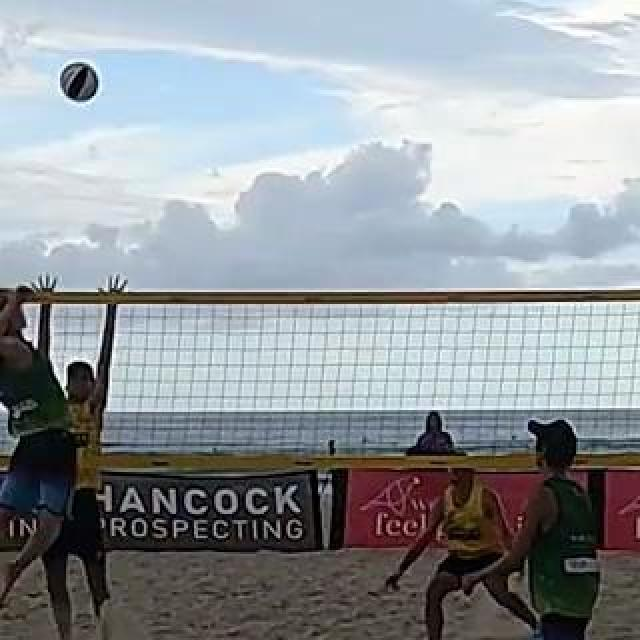volleyball: (60, 64, 100, 104)
